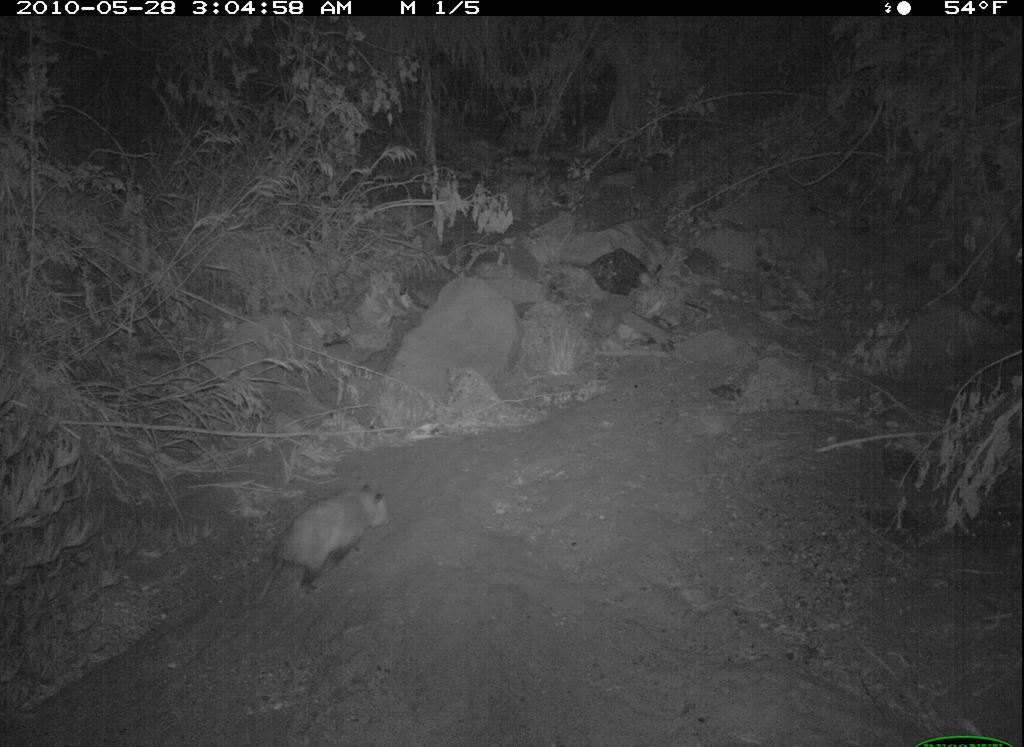opossum: (252, 483, 395, 610)
